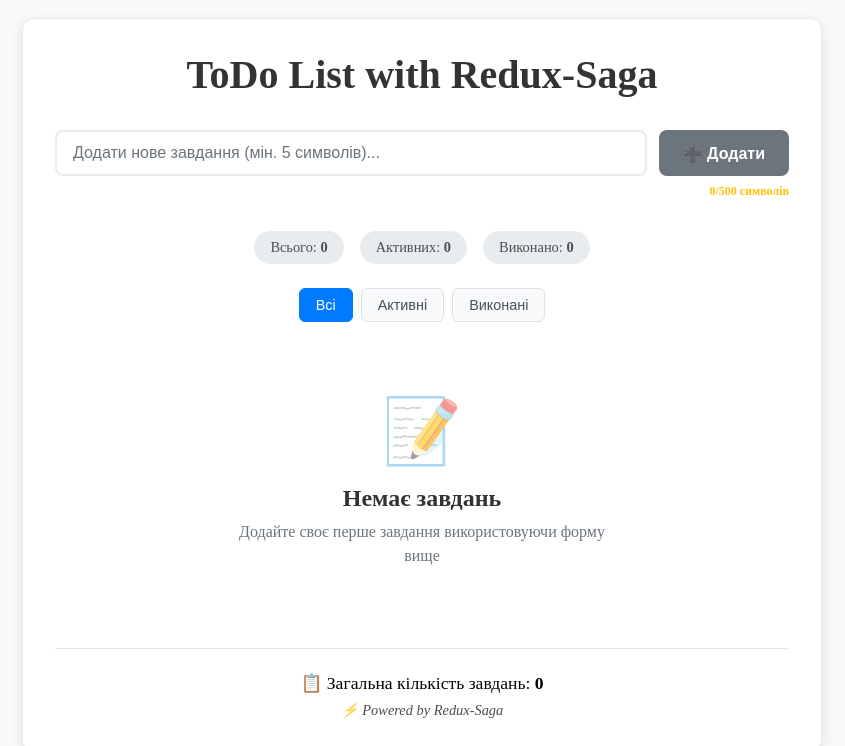
Scenario: TODO Application Tests › 6. Validates minimum length (5 characters)
Type "abc" into the field with placeholder "Додати нове завдання (мін. 5 символів)..." at (351, 153), box [55, 130, 647, 176]
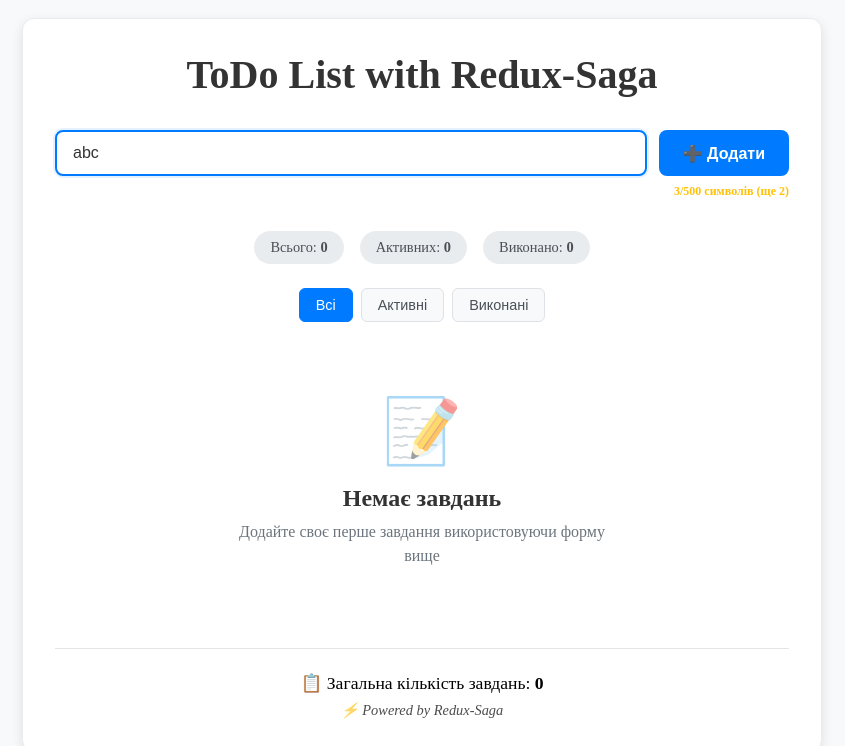
Click the button "➕ Додати" at (724, 153), box [659, 130, 789, 176]
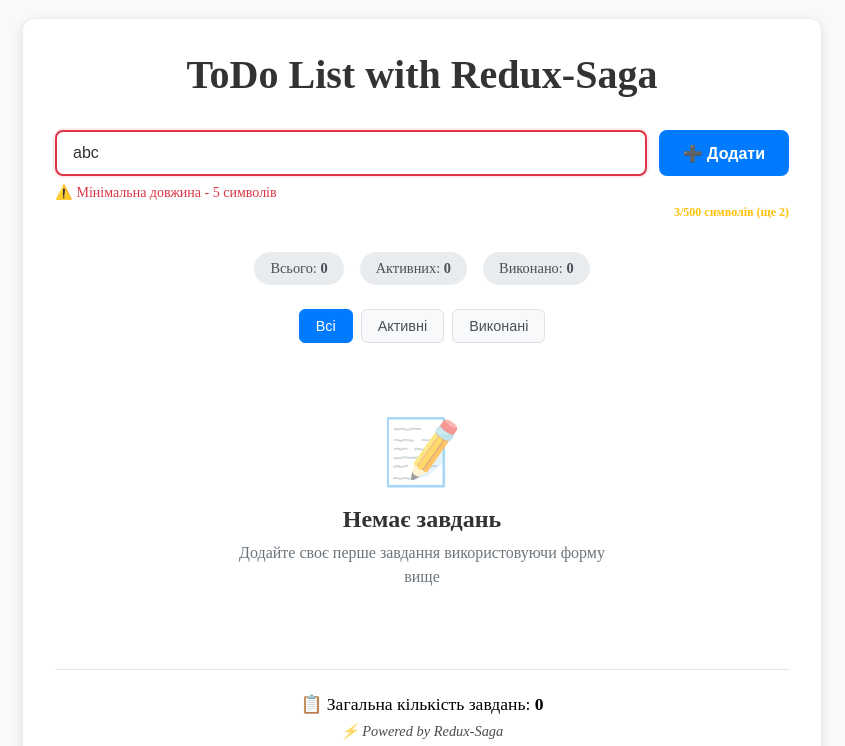
Check: the text "Мінімальна довжина - 5 символів" is shown, box [76, 184, 277, 200]
